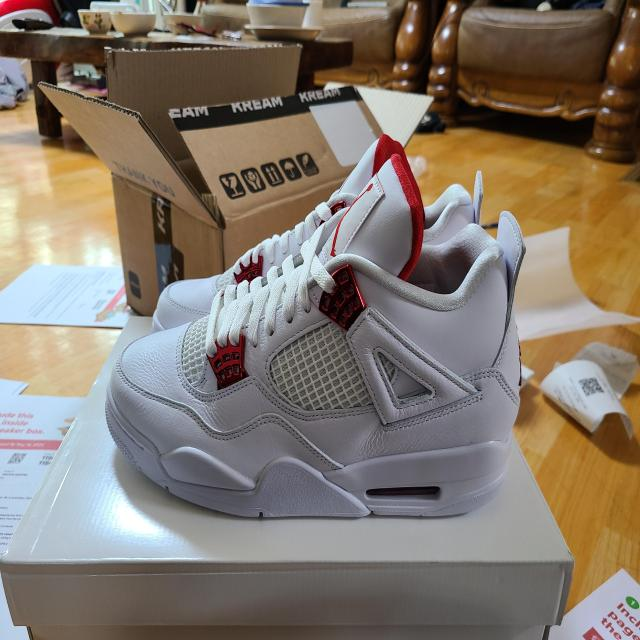shoe: (100, 151, 536, 544)
